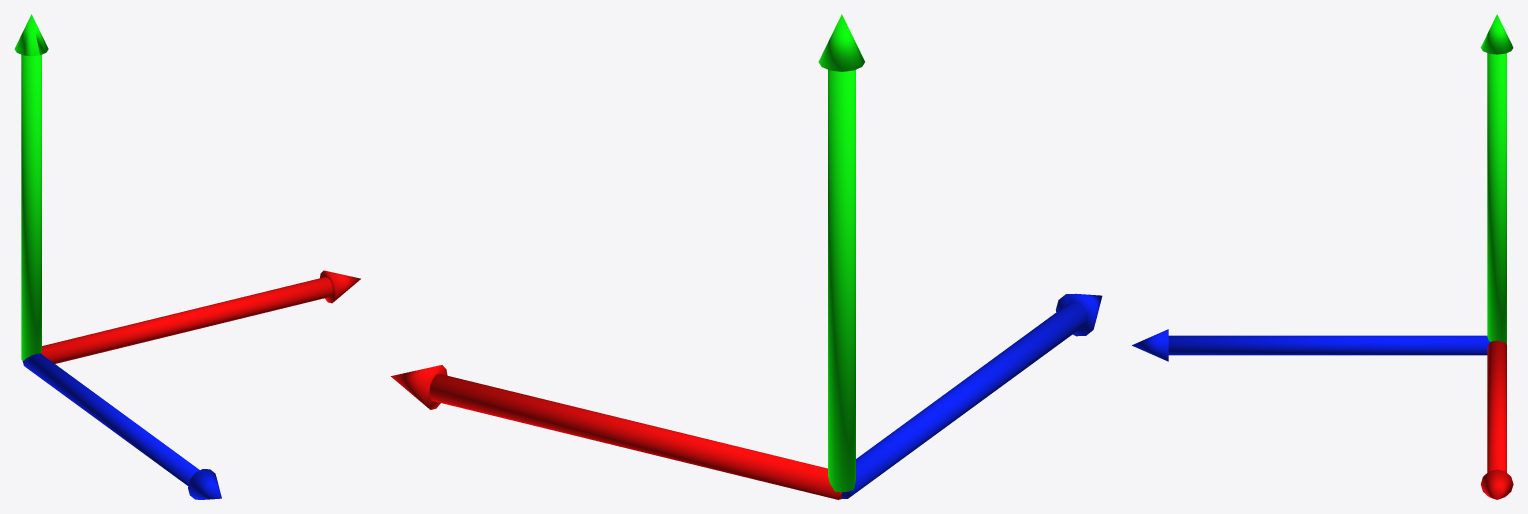
File: gizmo.glb
3 views of the same model, side by side, from view 1: azimuth 30°, elevation 25°; view 2: azimuth 150°, elevation 25°; view 3: azimuth 270°, elevation 25° (orthographic). The views are drawn at different scales.
Parts seen in each view (by area): view 1: Geom; view 2: Geom; view 3: Geom.
Boxes of the visible parts, x1,y1,x2,y2 form: Geom: (14, 14, 360, 499); Geom: (391, 14, 1102, 499); Geom: (1132, 14, 1513, 499).
Bounding box in the file's own units: 1.16 × 1.16 × 1.16.
1 material, 1 textured.
